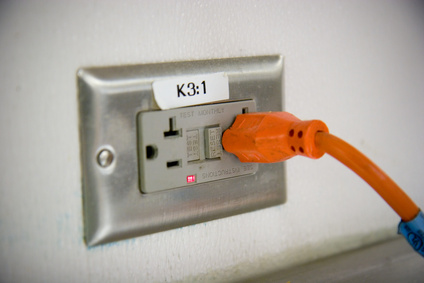outlet: (142, 114, 187, 173)
